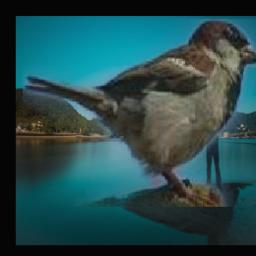Sparrow: (24, 19, 256, 207)
